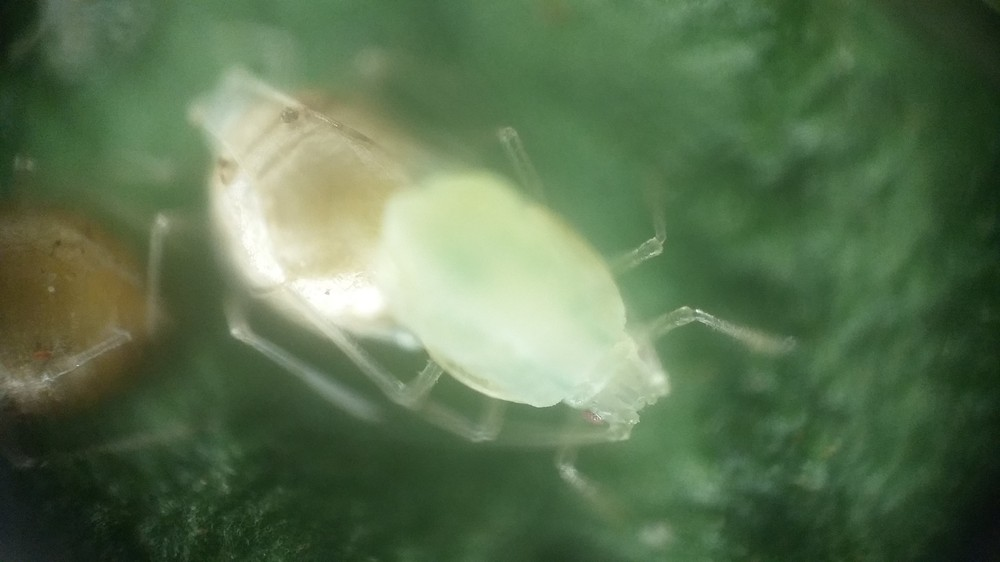Pulgon: (349, 144, 803, 517), (165, 58, 506, 412)
